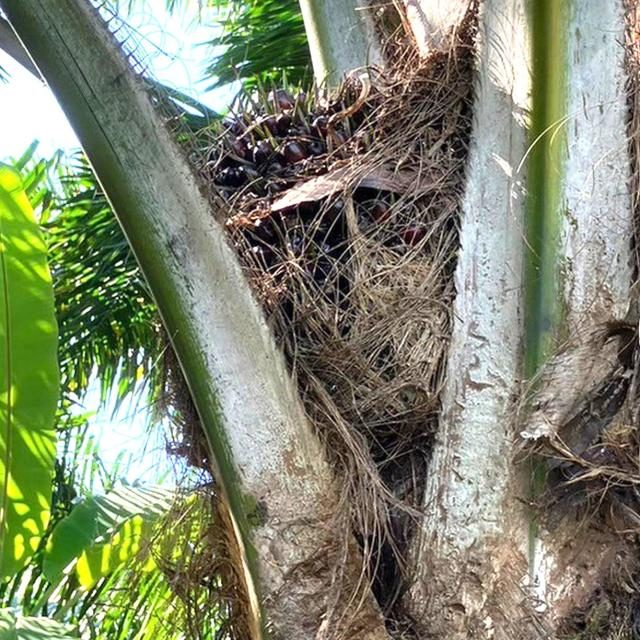ripe: (212, 83, 384, 332)
